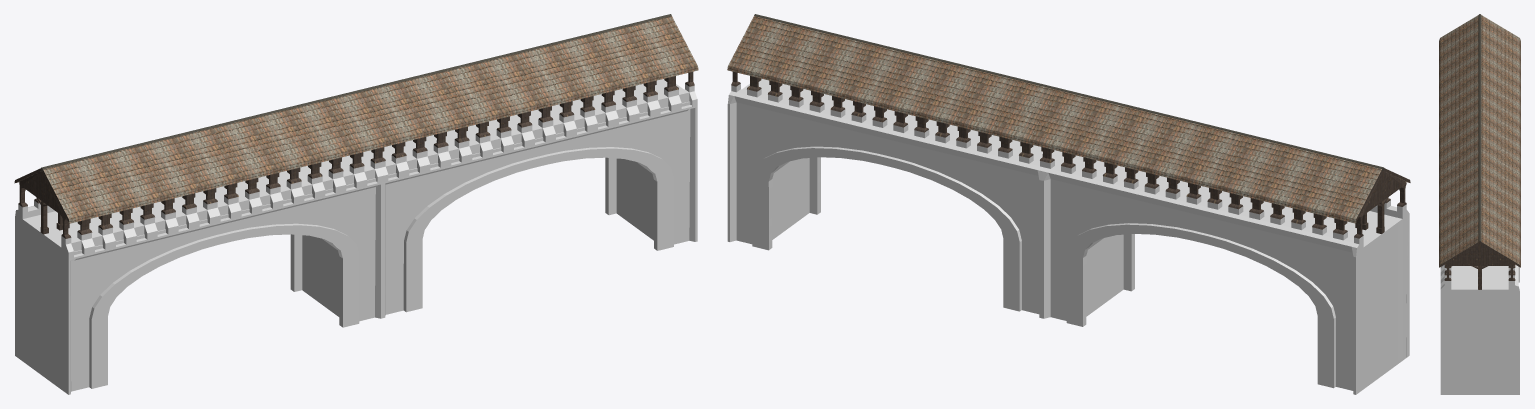
Rendered from Bridge-5.fbx.
3 views of the same model, side by side, from view 1: azimuth 30°, elevation 25°; view 2: azimuth 150°, elevation 25°; view 3: azimuth 270°, elevation 25° (orthographic). The views are drawn at different scales.
Visible parts, largest first — view 1: FIx Stlpy.003; view 2: FIx Stlpy.003; view 3: FIx Stlpy.003.
Part boxes in pixels (<box>): FIx Stlpy.003: <box>14,14,698,394</box>; FIx Stlpy.003: <box>727,14,1410,394</box>; FIx Stlpy.003: <box>1439,14,1520,394</box>.
Bounding box in the file's own units: 7257 × 2293 × 1103.
